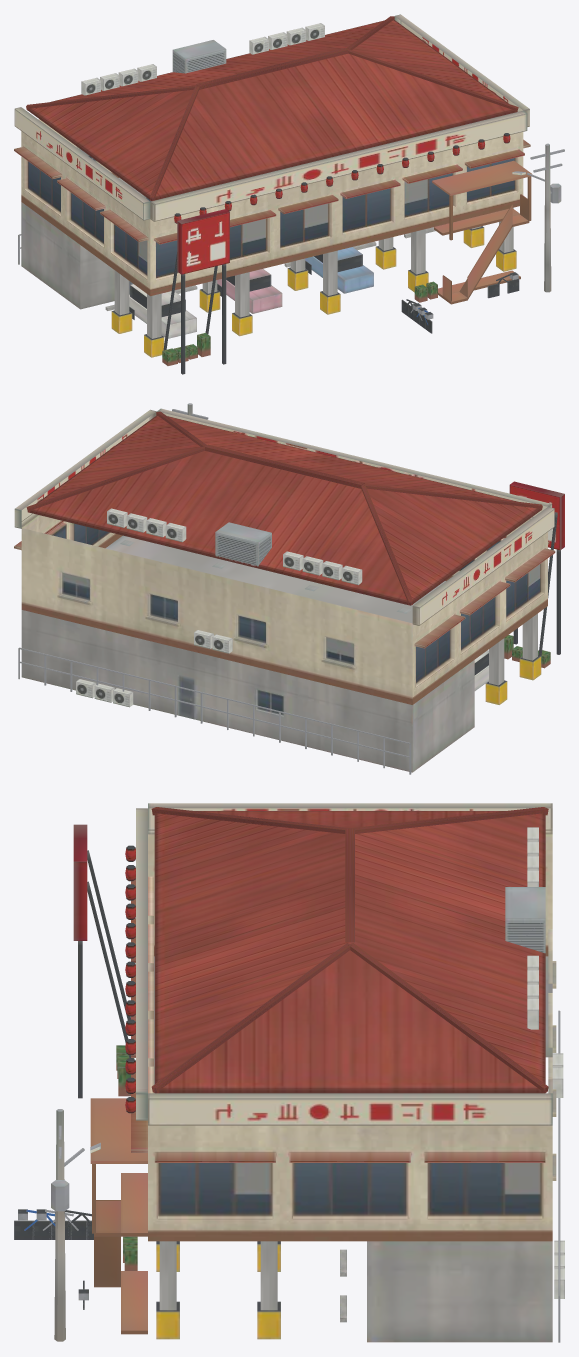
File: tokyo_lowrise_c.glb
3 views of the same model, one above another, from view 1: azimuth 30°, elevation 25°; view 2: azimuth 150°, elevation 25°; view 3: azimuth 270°, elevation 25° (orthographic). The views are drawn at different scales.
Parts seen in each view (by area): view 1: tokyo_lowrise_c; view 2: tokyo_lowrise_c; view 3: tokyo_lowrise_c.
Part boxes in pixels (x1,y1,x2,y2): tokyo_lowrise_c: (14,14,564,374); tokyo_lowrise_c: (14,403,564,774); tokyo_lowrise_c: (14,803,564,1342).
Size of the model in its own units: 21.2 by 10.31 by 16.34.
1 material, 1 textured.
